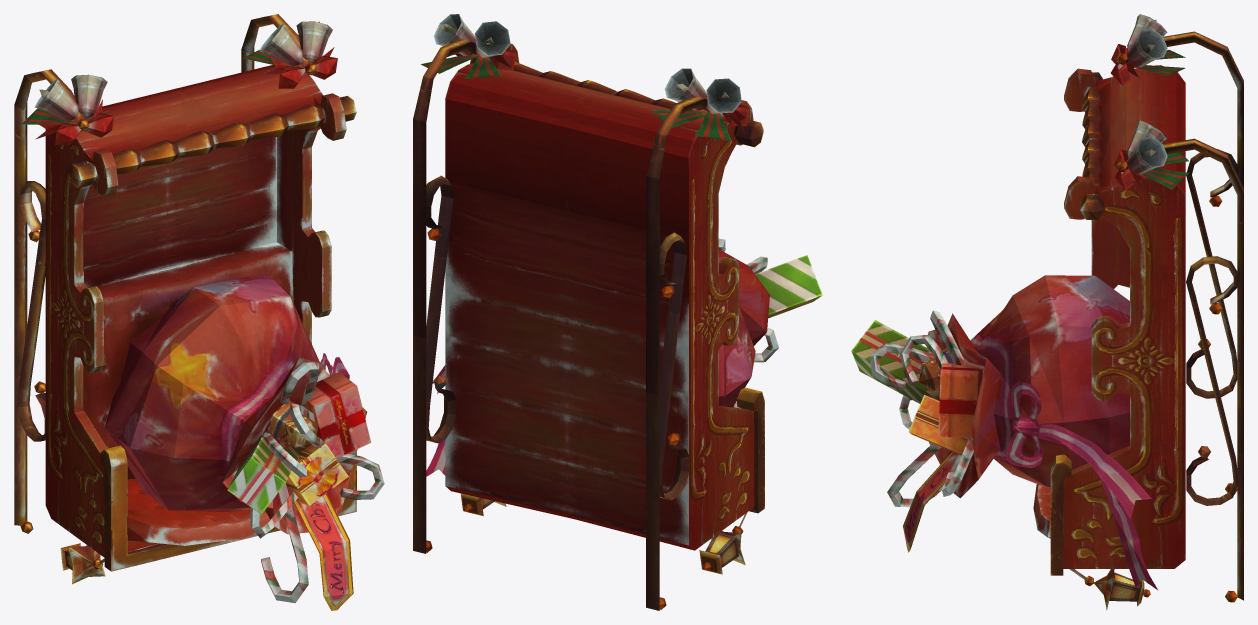
The model's file is huodong_fuben_382_che.obj.
3 renders of one model, left to right at view 1: azimuth 30°, elevation 25°; view 2: azimuth 150°, elevation 25°; view 3: azimuth 270°, elevation 25°, orthographic. The views are drawn at different scales.
Visible parts, largest first — view 1: huodong_fuben_382_che; view 2: huodong_fuben_382_che; view 3: huodong_fuben_382_che.
Boxes of the visible parts, box(x1,y1,x2,y2) form: huodong_fuben_382_che: box(14, 14, 384, 610); huodong_fuben_382_che: box(413, 14, 822, 610); huodong_fuben_382_che: box(851, 14, 1243, 610).
Bounding box in the file's own units: 188 × 284 × 214.
Materials: 2 (2 with a texture image).
